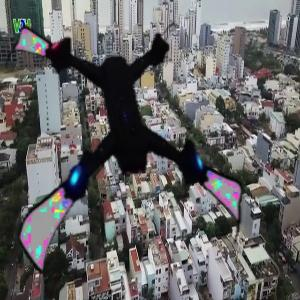drone: (2, 18, 260, 276)
